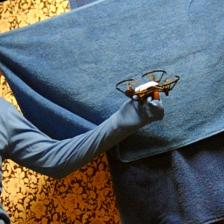drone: (117, 68, 180, 105)
